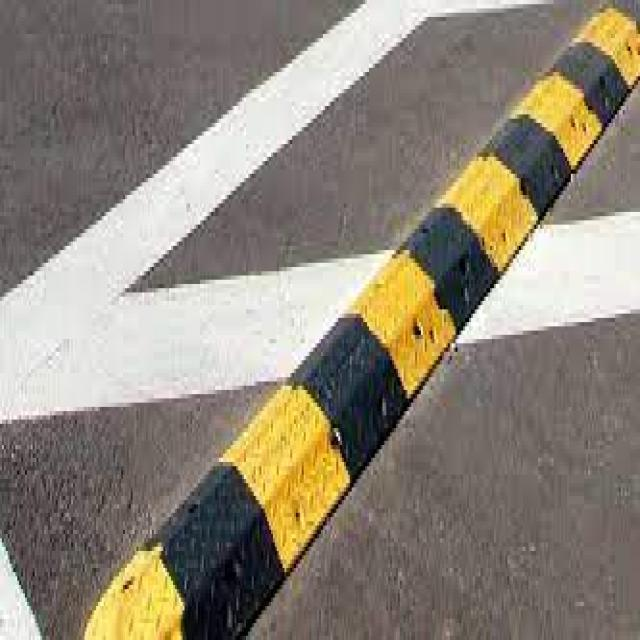speed-bump: (69, 0, 640, 636)
